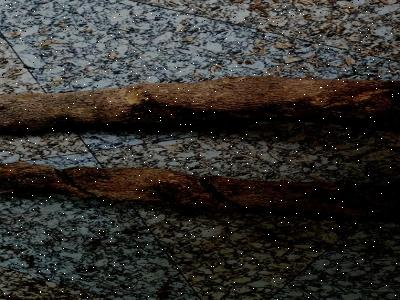Root: (0, 162, 399, 218), (0, 77, 399, 133)
